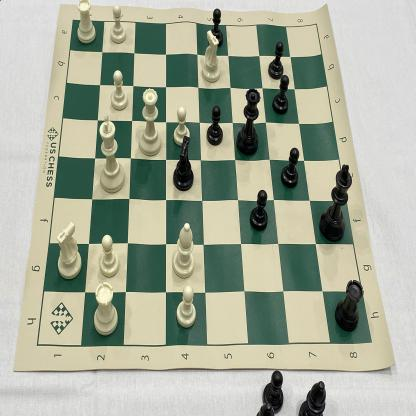black-king: (318, 158, 353, 244)
black-knight: (170, 135, 197, 192)
black-pawn: (247, 185, 272, 234), (279, 145, 300, 192), (204, 102, 225, 149), (270, 74, 292, 115), (266, 39, 285, 81), (207, 8, 226, 48)
black-queen: (234, 84, 263, 158)
black-rook: (331, 274, 365, 335)
white-bishop: (171, 222, 196, 280)
white-king: (95, 112, 127, 195)
white-knight: (53, 221, 85, 281), (200, 27, 223, 87)
white-pawn: (173, 283, 199, 331), (96, 233, 121, 280), (107, 2, 129, 46), (170, 104, 191, 147), (109, 68, 129, 112)
white-queen: (138, 84, 164, 158)
white-rook: (93, 281, 120, 338), (73, 0, 99, 46)
